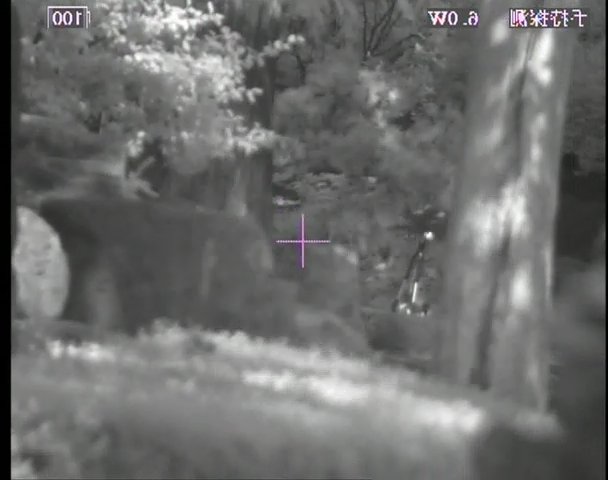my: (422, 230, 434, 240)
